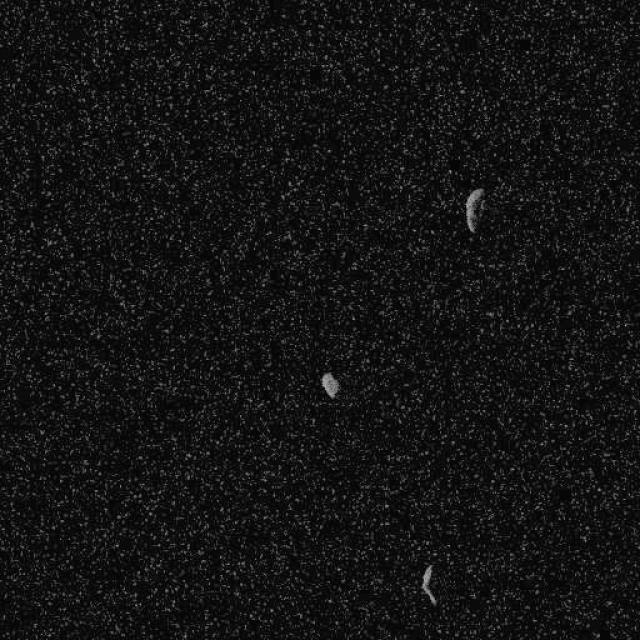D2: (464, 186, 486, 234), (420, 562, 438, 606), (319, 370, 340, 399)
